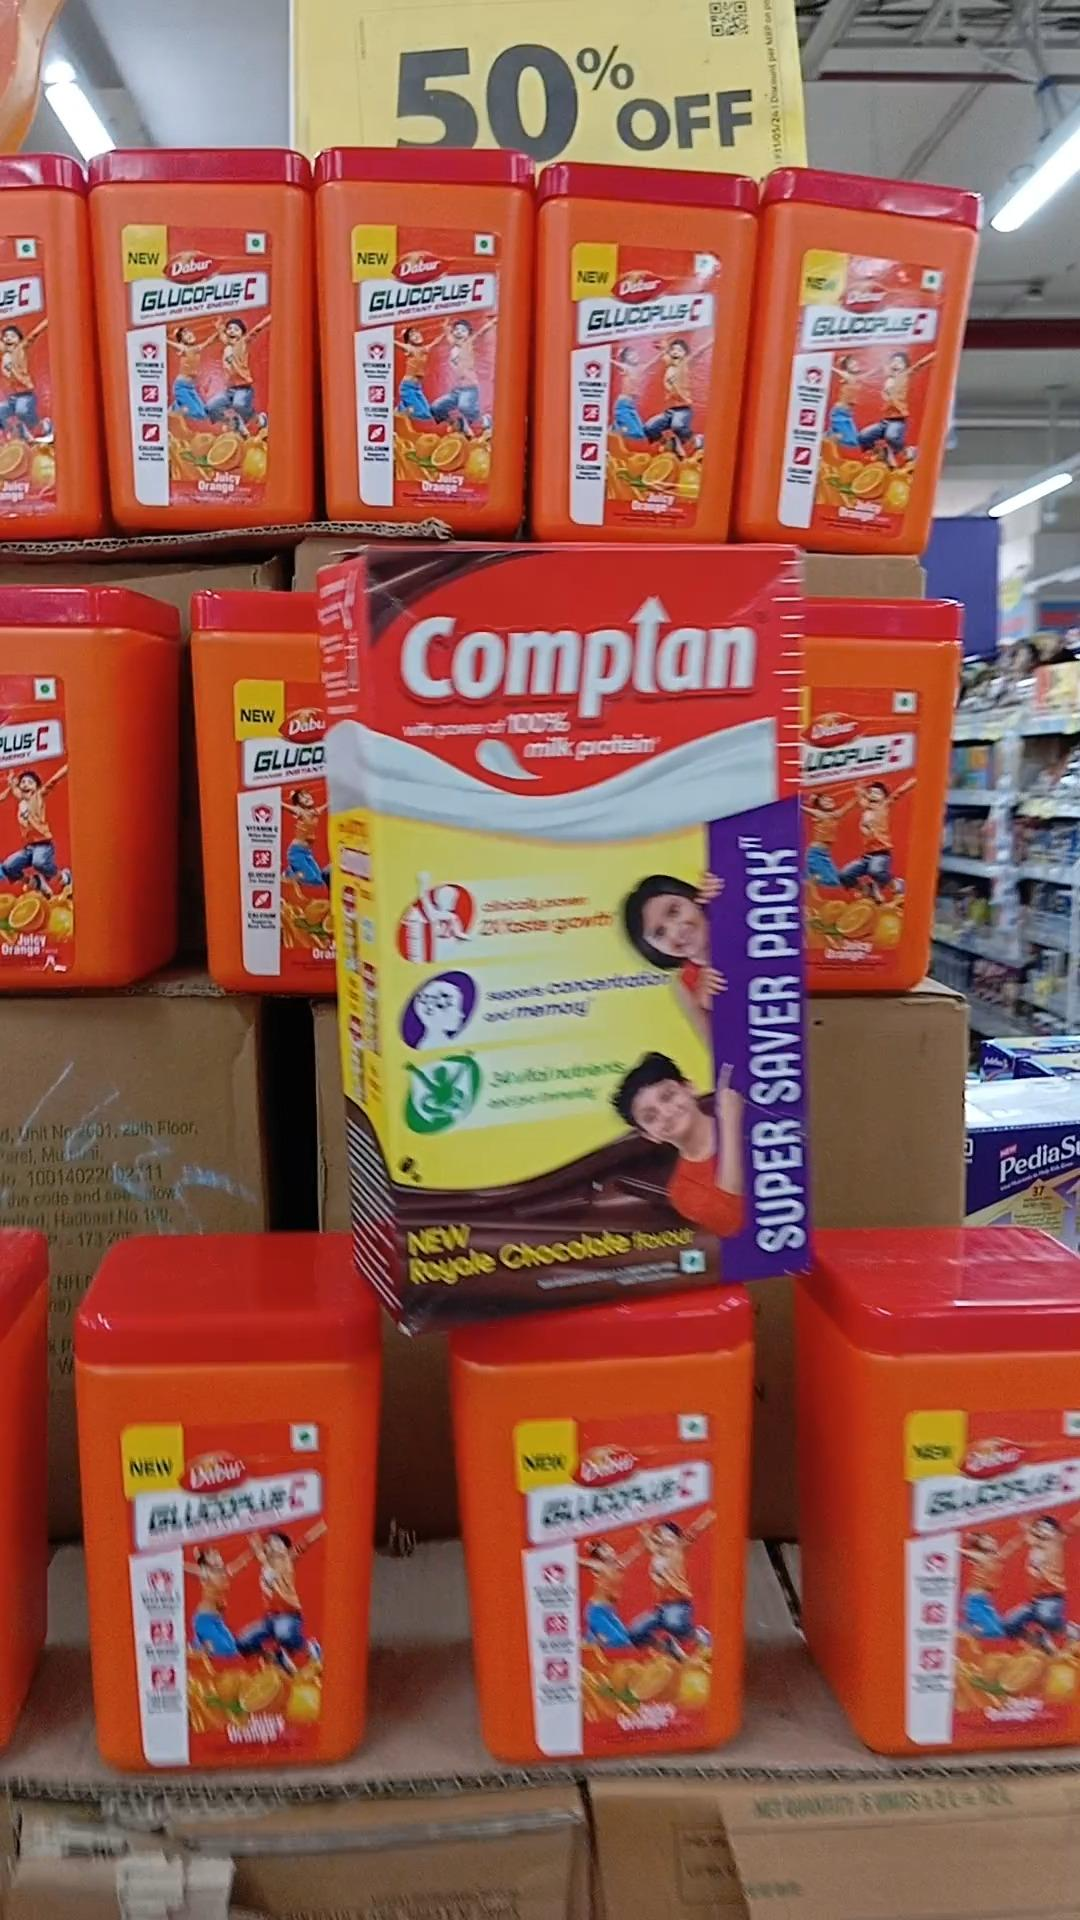COMPLAN_CHOCOLATE_1_KG_PACK: (369, 545, 800, 1302)
